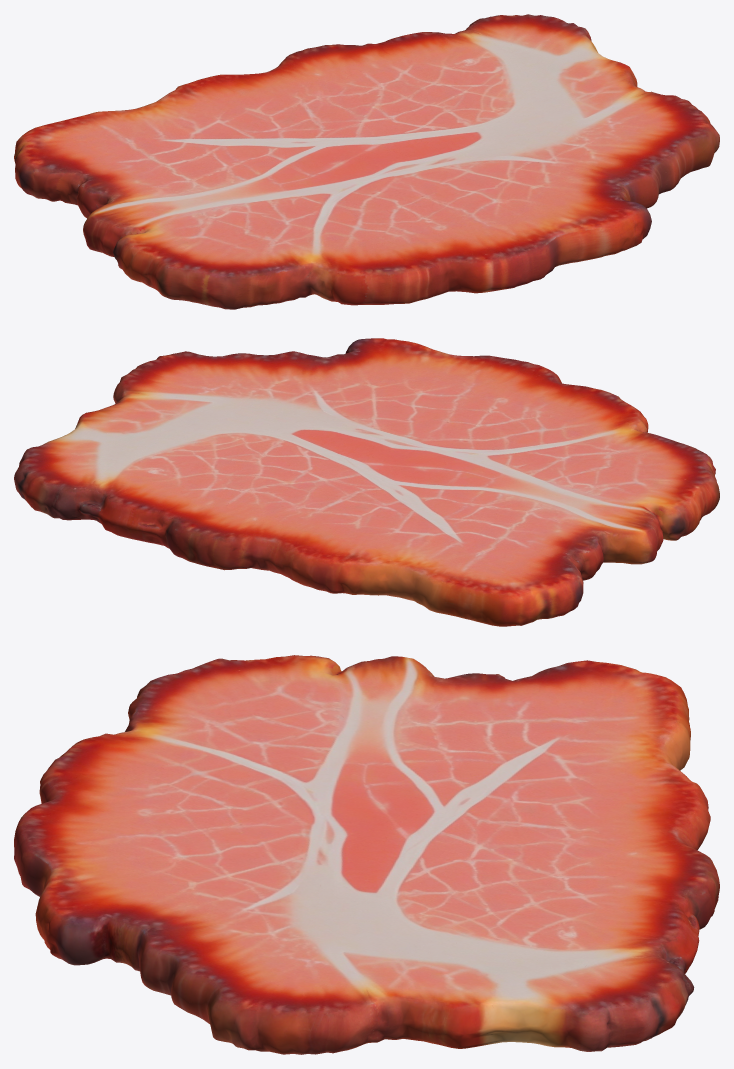
The model's file is Meshy_AI_Char_Siu_0422171159_texture.fbx.
3 views of the same model, one above another, from view 1: azimuth 30°, elevation 25°; view 2: azimuth 150°, elevation 25°; view 3: azimuth 270°, elevation 25° (orthographic). The views are drawn at different scales.
Parts seen in each view (by area): view 1: Mesh_0; view 2: Mesh_0; view 3: Mesh_0.
Part boxes in pixels (box(x1,y1,x2,y2)): Mesh_0: box(14, 14, 719, 309); Mesh_0: box(14, 338, 719, 626); Mesh_0: box(14, 655, 719, 1054).
Size of the model in its own units: 200 by 11.39 by 162.
Materials: 1 (1 with a texture image).
